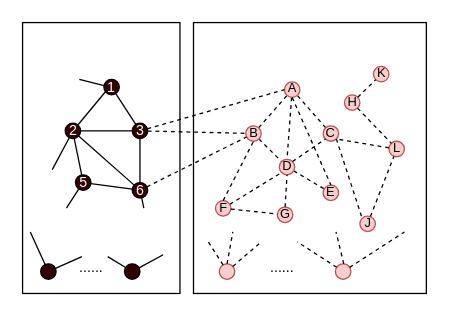
This 449x316 diagram has some shape labels left out. Here are the shapes that lost their labels. From the top down, the box of each, then its label:
(21, 21, 180, 293): 采样的度数子图
(192, 21, 426, 293): 剩余子图
